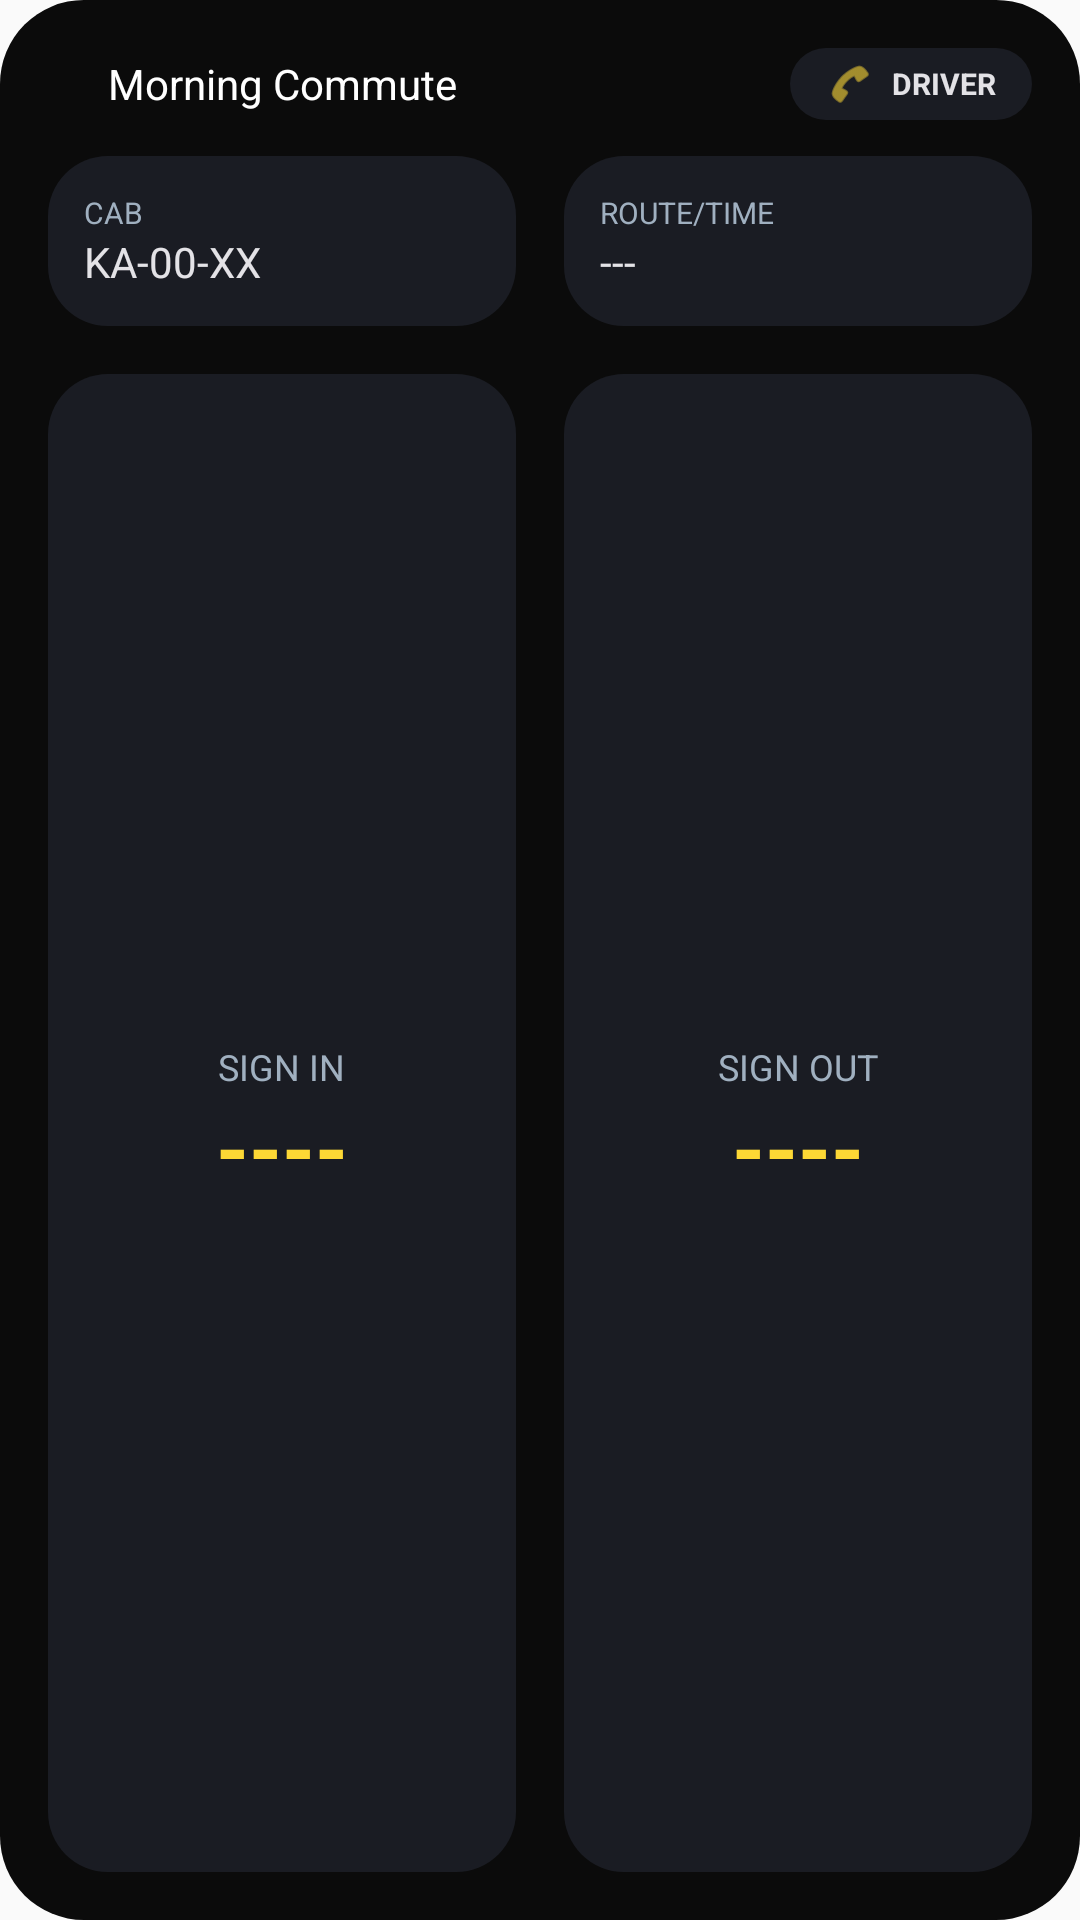

Where icons sit on this 1080x1920 app screen, as (x1, y1, x2, y2):
call: (831, 65, 869, 103)
